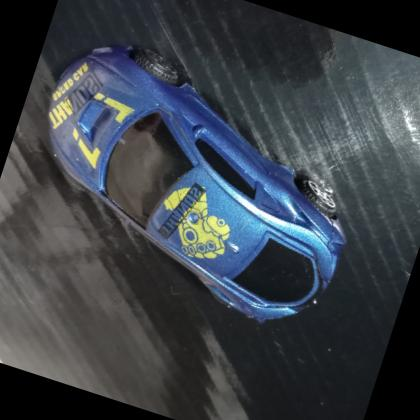Car: (47, 41, 346, 323)
